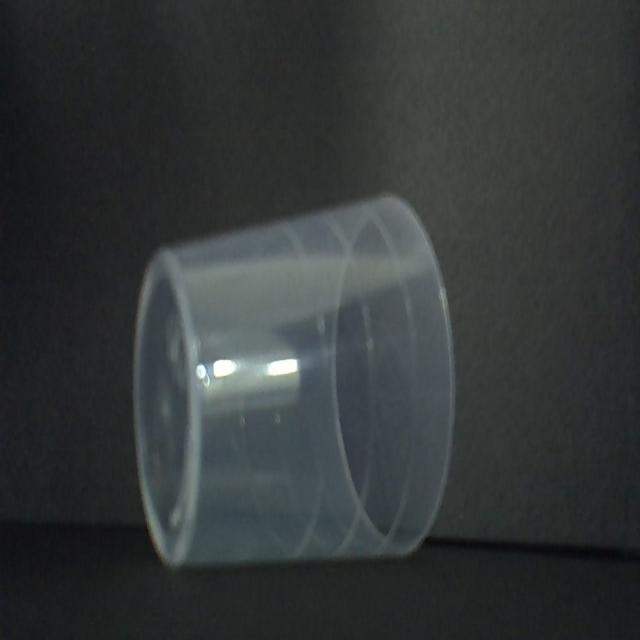cup: (133, 188, 461, 572)
